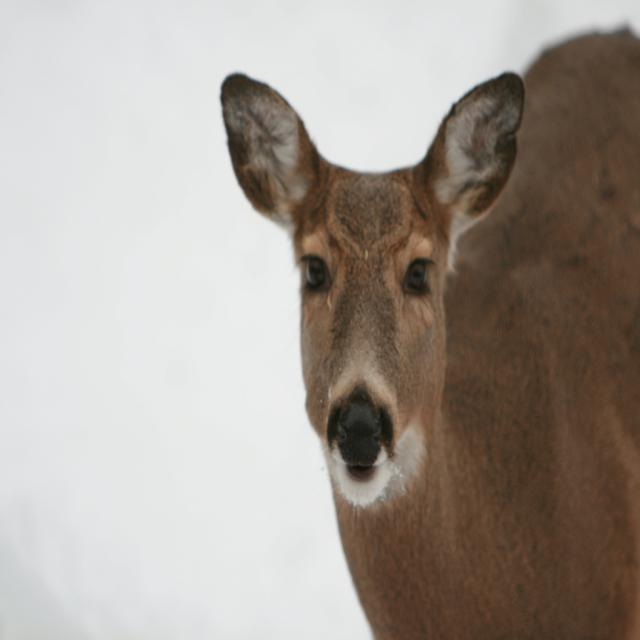Deer: (219, 23, 639, 639)
